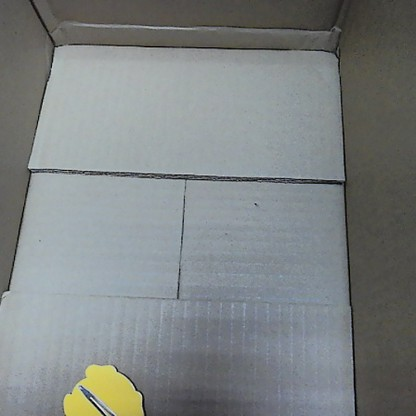dogclip: (61, 360, 146, 414)
